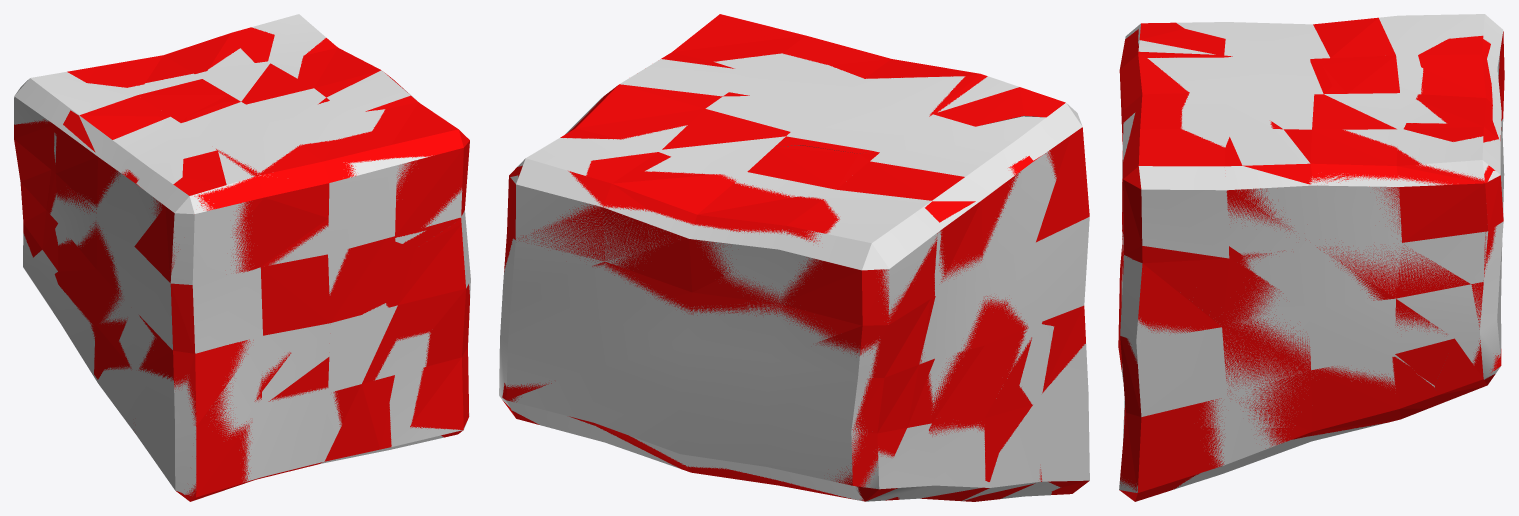
The model's file is CastleWallStone.FBX.
3 renders of one model, left to right at view 1: azimuth 30°, elevation 25°; view 2: azimuth 150°, elevation 25°; view 3: azimuth 270°, elevation 25°, orthographic. The views are drawn at different scales.
Parts seen in each view (by area): view 1: CastleStone, CastleStone_Part_3, CastleStone_Part_4, CastleStone_Part_8, CastleStone_Part_6, CastleStone_Part_9, CastleStone_Part_7, CastleStone_Part_2, CastleStone_Part_5; view 2: CastleStone, CastleStone_Part_9, CastleStone_Part_6, CastleStone_Part_3, CastleStone_Part_5, CastleStone_Part_7, CastleStone_Part_4; view 3: CastleStone, CastleStone_Part_1, CastleStone_Part_5, CastleStone_Part_9, CastleStone_Part_3, CastleStone_Part_8, CastleStone_Part_6, CastleStone_Part_4.
Part boxes in pixels (<box>): CastleStone: <box>14,14,470,495</box>; CastleStone_Part_3: <box>182,95,469,248</box>; CastleStone_Part_4: <box>165,177,415,335</box>; CastleStone_Part_8: <box>362,222,469,449</box>; CastleStone_Part_6: <box>42,115,186,373</box>; CastleStone_Part_9: <box>14,27,274,257</box>; CastleStone_Part_7: <box>94,270,291,494</box>; CastleStone_Part_2: <box>181,357,379,501</box>; CastleStone_Part_5: <box>223,35,407,102</box>; CastleStone: <box>499,53,1089,501</box>; CastleStone_Part_9: <box>502,145,941,501</box>; CastleStone_Part_6: <box>859,135,1085,500</box>; CastleStone_Part_3: <box>661,14,1023,153</box>; CastleStone_Part_5: <box>507,84,799,222</box>; CastleStone_Part_7: <box>962,203,1089,501</box>; CastleStone_Part_4: <box>1020,87,1088,203</box>; CastleStone: <box>1119,14,1504,492</box>; CastleStone_Part_1: <box>1123,246,1437,457</box>; CastleStone_Part_5: <box>1226,86,1494,385</box>; CastleStone_Part_9: <box>1322,18,1504,407</box>; CastleStone_Part_3: <box>1120,29,1332,255</box>; CastleStone_Part_8: <box>1119,252,1224,501</box>; CastleStone_Part_6: <box>1310,17,1377,64</box>; CastleStone_Part_4: <box>1119,22,1184,273</box>.
Size of what is drawn, in the model's own units: 20.63 by 20.08 by 20.45.
